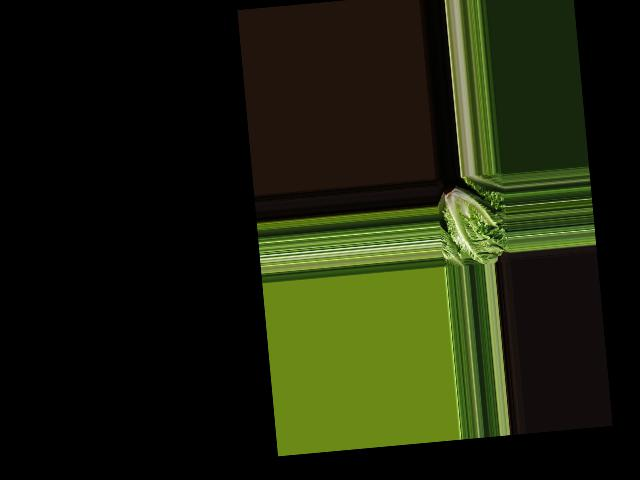lettuce: (435, 177, 505, 266)
